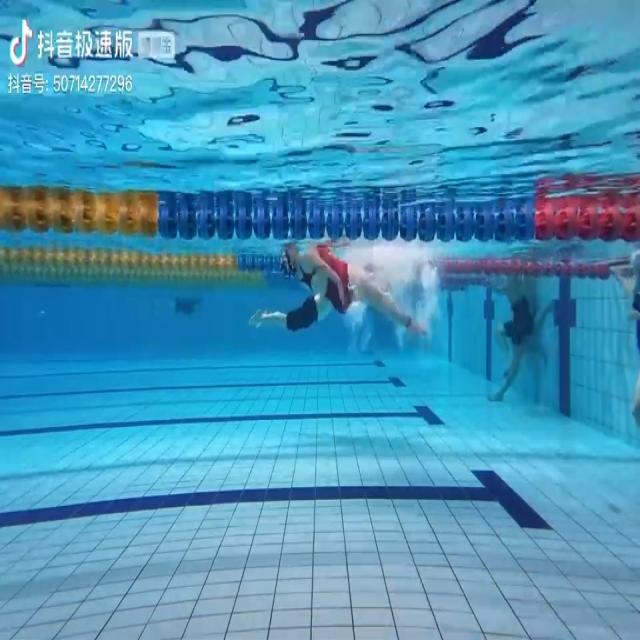Swimming: (279, 241, 428, 333), (250, 274, 346, 336)
